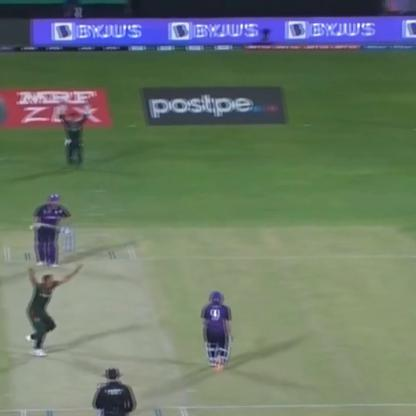pitch: (0, 238, 187, 415)
